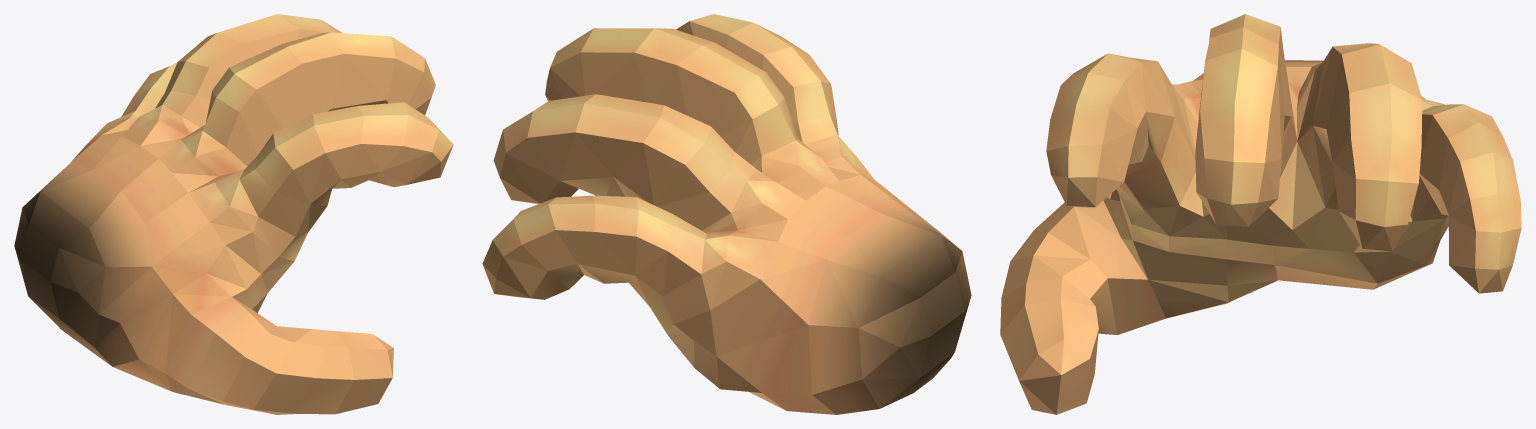
File: left hand 4.obj
3 views of the same model, side by side, from view 1: azimuth 30°, elevation 25°; view 2: azimuth 150°, elevation 25°; view 3: azimuth 270°, elevation 25° (orthographic). The views are drawn at different scales.
Parts seen in each view (by area): view 1: n0b0_n0b0.003; view 2: n0b0_n0b0.003; view 3: n0b0_n0b0.003.
Boxes of the visible parts, x1=… form: n0b0_n0b0.003: x1=14, y1=14, x2=453, y2=414; n0b0_n0b0.003: x1=482, y1=14, x2=971, y2=414; n0b0_n0b0.003: x1=1000, y1=14, x2=1521, y2=414.
Size of the model in its own units: 7.18 by 5.49 by 6.74.
1 material, 1 textured.
